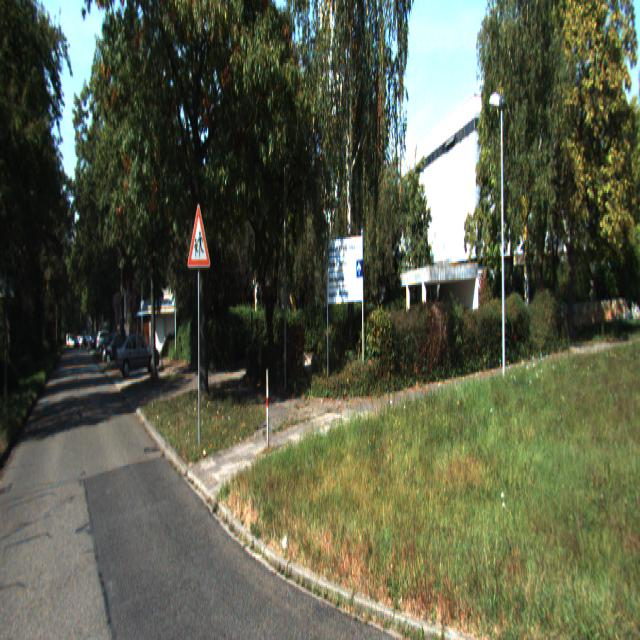Car: (116, 331, 160, 379)
